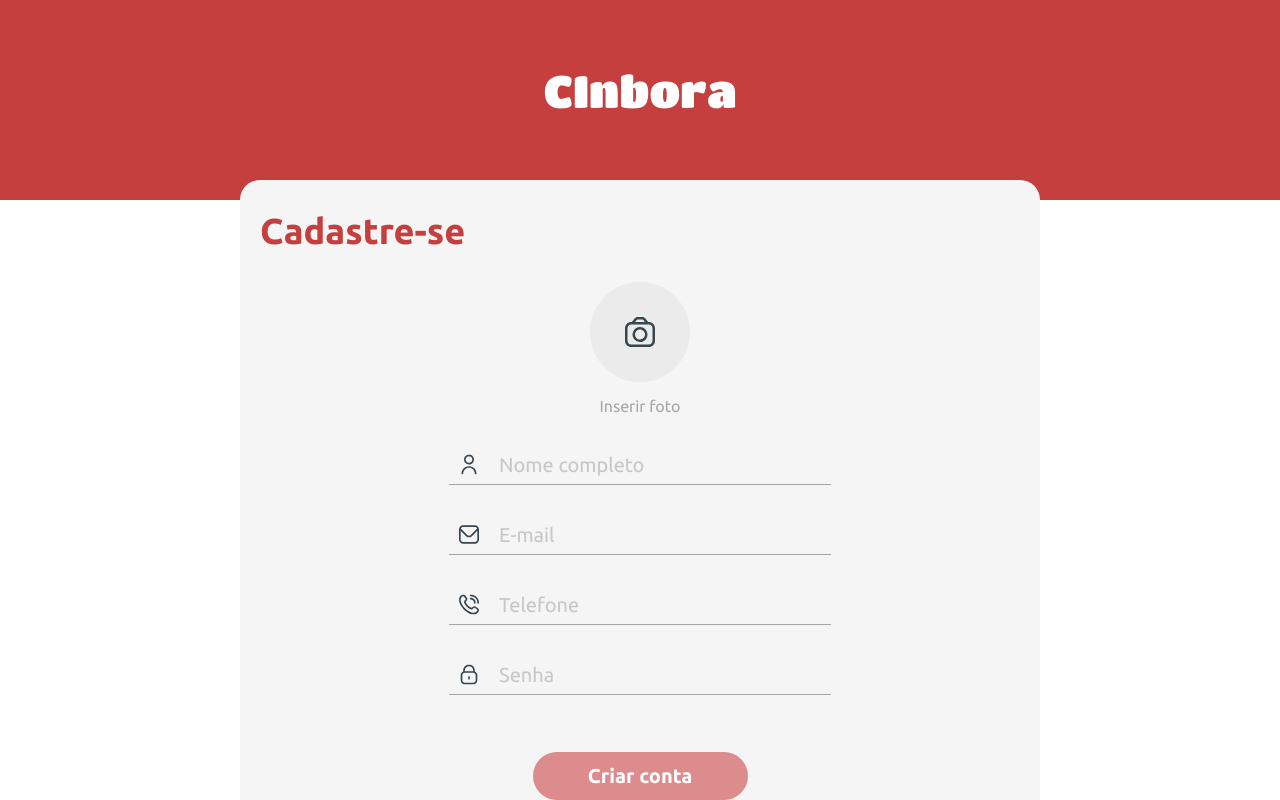
Test: Sign up › Should possible see password when click in the eye icon
This screenshot has width=1280, height=800.
In the password field with placeholder "Senha": (650,675) [499, 655, 801, 694], type "123456"
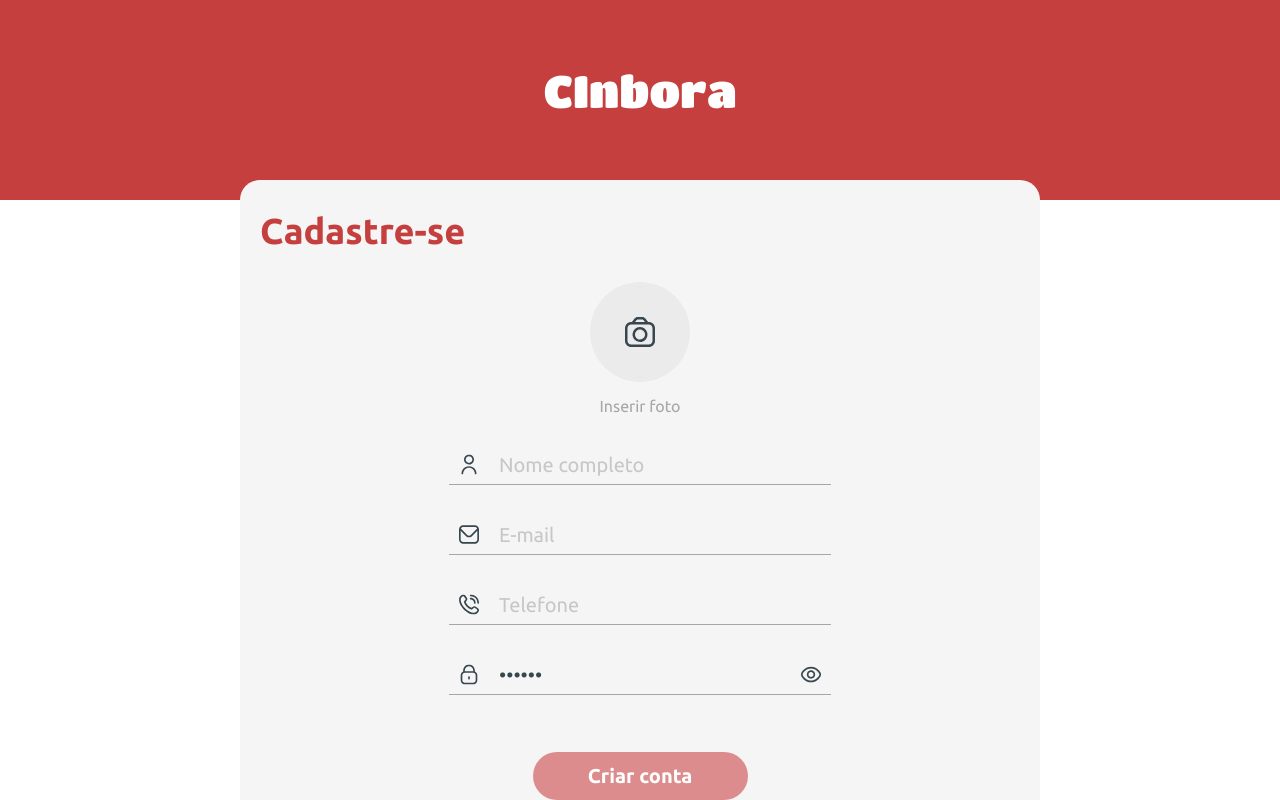
Click the picture named "See password": (811,675) [801, 655, 821, 694]
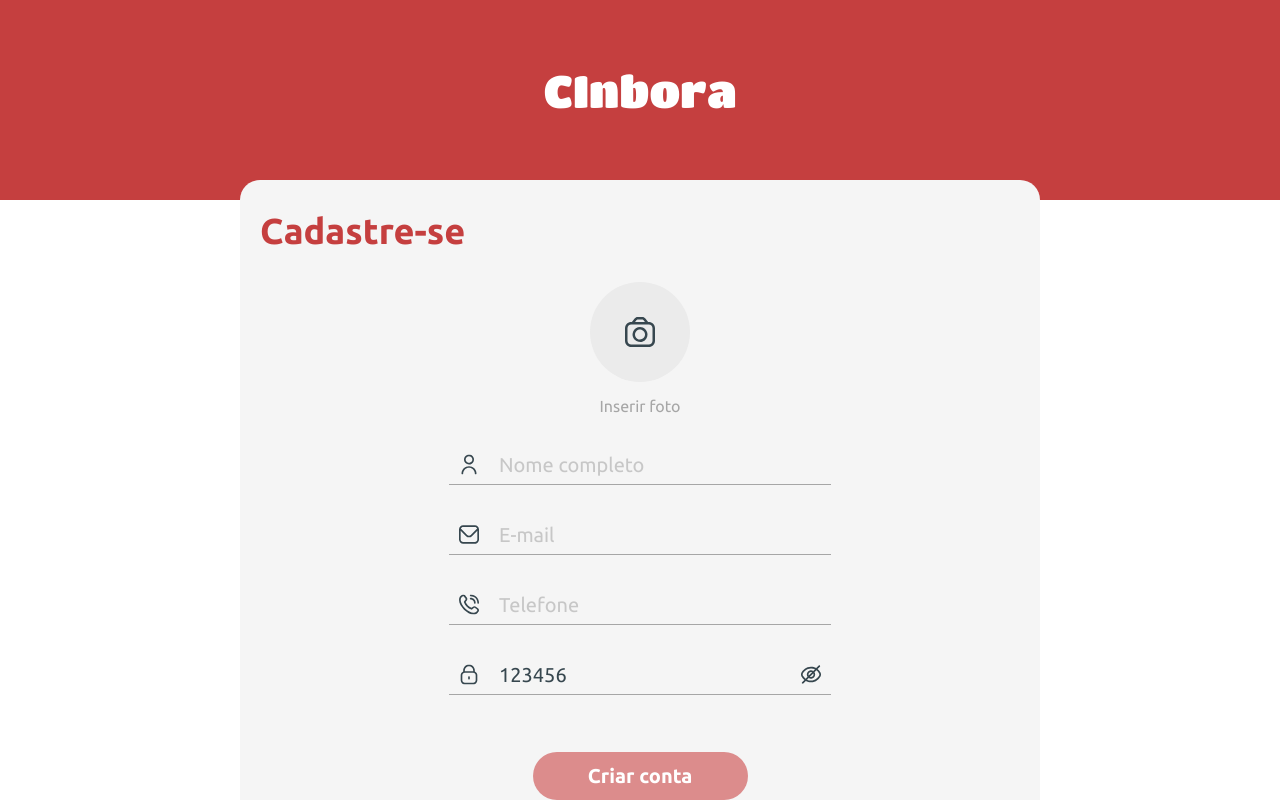
Check: the field with placeholder "Senha" shows its text, box [499, 655, 801, 694]
